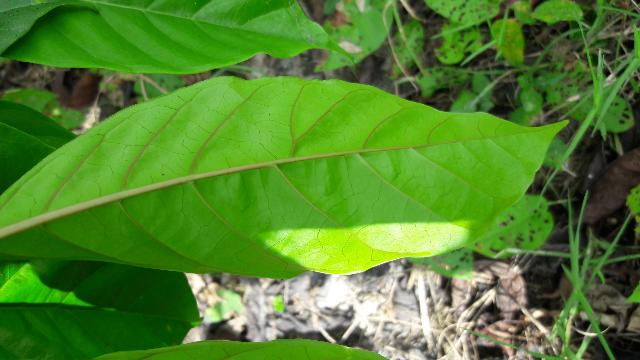healthy: (0, 75, 567, 278)
